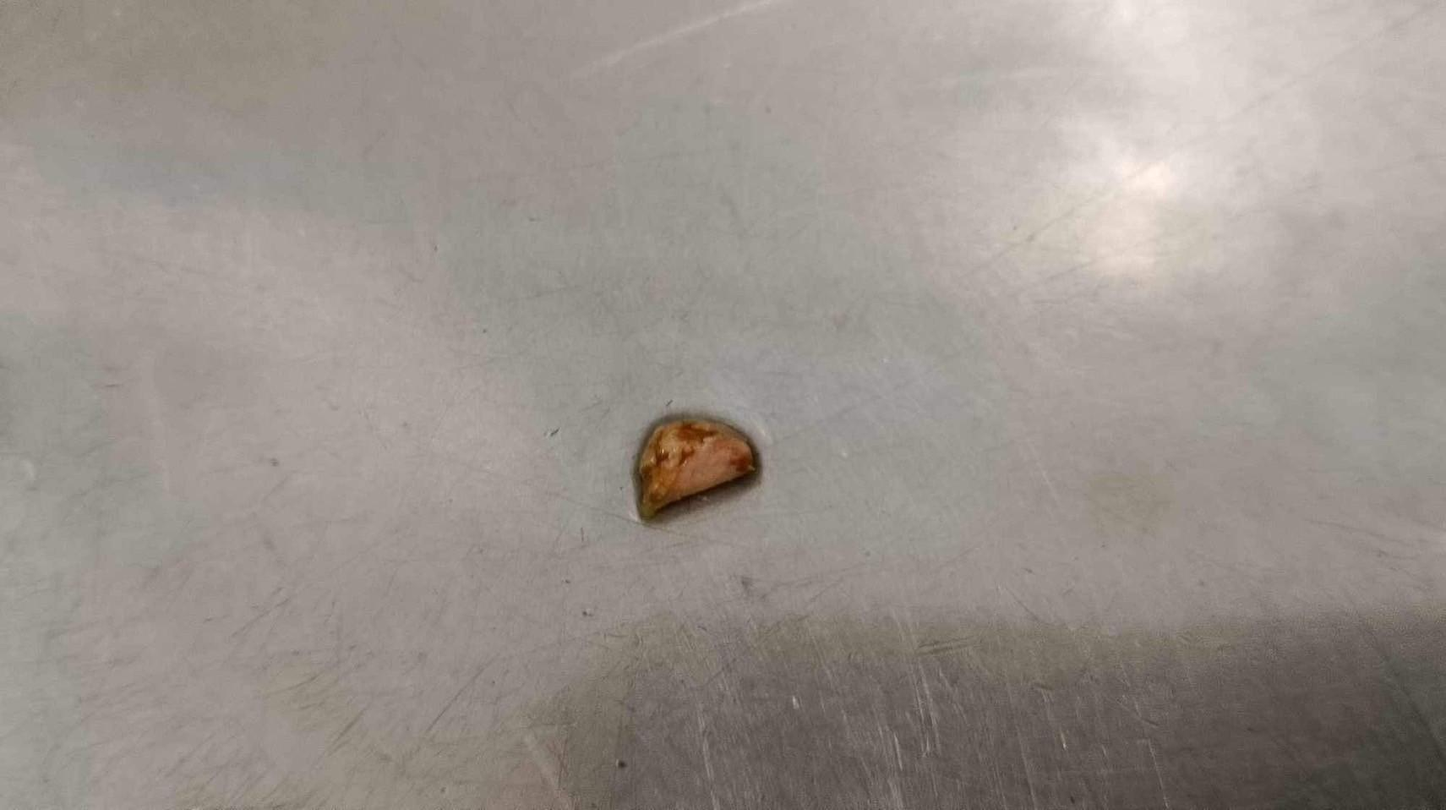Infectious: (634, 416, 756, 521)
Pathological: (5, 3, 1438, 805)
